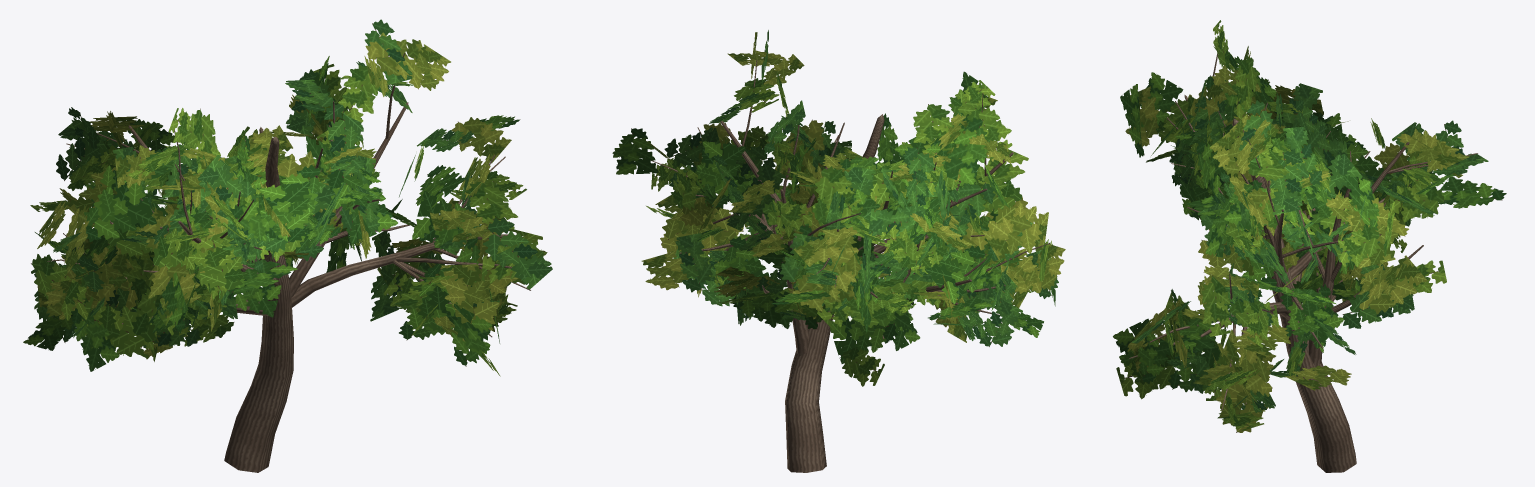
File: hero_oak_b_lod1.obj
The picture shows the model from 3 angles, left to right: view 1: azimuth 30°, elevation 25°; view 2: azimuth 150°, elevation 25°; view 3: azimuth 270°, elevation 25°; orthographic projection. The views are drawn at different scales.
Visible parts, largest first — view 1: hero_oak_b_lod1; view 2: hero_oak_b_lod1; view 3: hero_oak_b_lod1.
Boxes of the visible parts, x1,y1,x2,y2 form: hero_oak_b_lod1: [23, 19, 552, 472]; hero_oak_b_lod1: [612, 30, 1065, 472]; hero_oak_b_lod1: [1113, 20, 1506, 472].
Size of the model in its own units: 12.35 by 10.53 by 9.66.
Materials: 2 (2 with a texture image).
